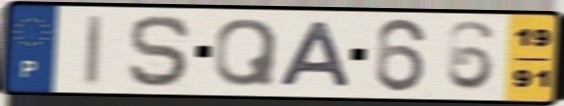6: (372, 17, 428, 95), (445, 19, 499, 95)
A: (276, 19, 356, 90)
I: (82, 12, 106, 88)
Q: (211, 16, 281, 89)
S: (126, 13, 195, 90)
